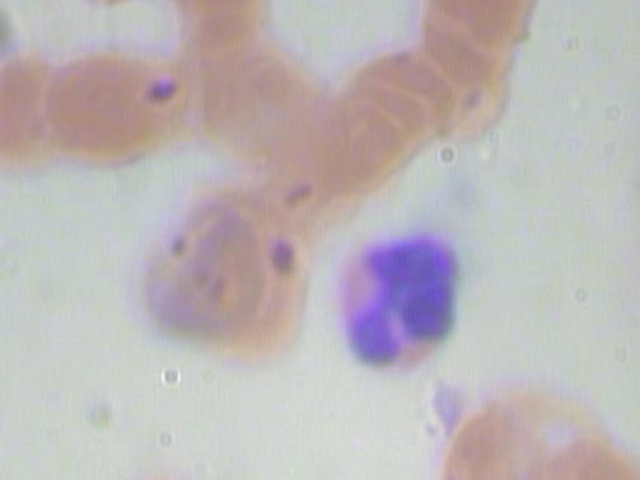RBC: (119, 189, 266, 349), (54, 39, 195, 169), (200, 36, 336, 169), (412, 403, 549, 480), (0, 56, 83, 180), (415, 0, 551, 48), (102, 457, 238, 480)
WBC: (334, 229, 469, 379)
